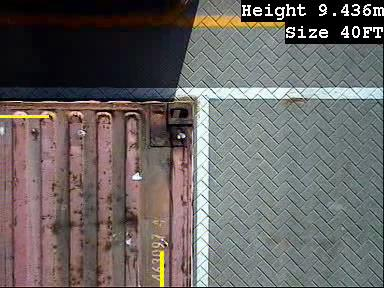groundmarker_2: (158, 181, 247, 220)
